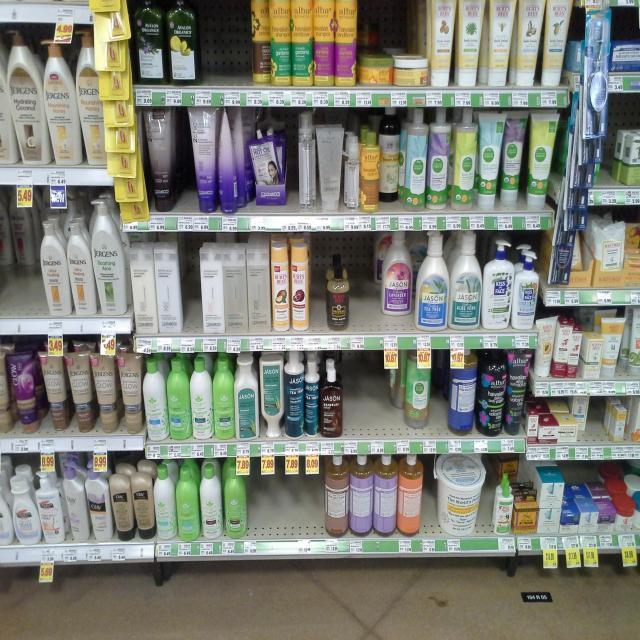empty_space: (253, 476, 323, 540), (200, 0, 252, 80), (346, 358, 390, 437), (352, 256, 377, 328), (175, 112, 194, 206), (182, 252, 202, 336), (13, 271, 44, 315), (309, 268, 327, 328), (423, 476, 439, 532), (479, 485, 492, 532), (603, 124, 613, 184)
